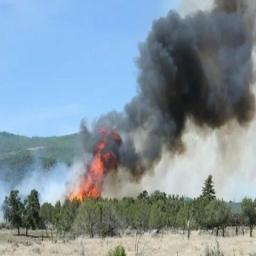Heavy smoke: (0, 0, 256, 201)
Small fire: (60, 116, 127, 211)
